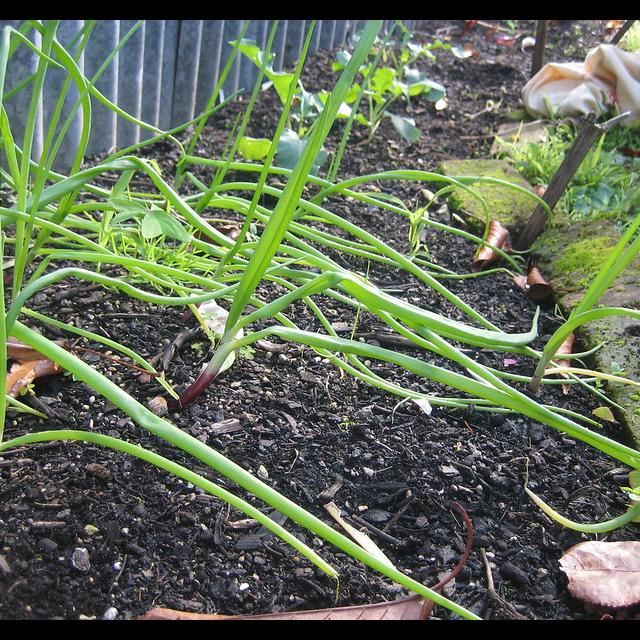green_onion: (177, 20, 640, 470)
